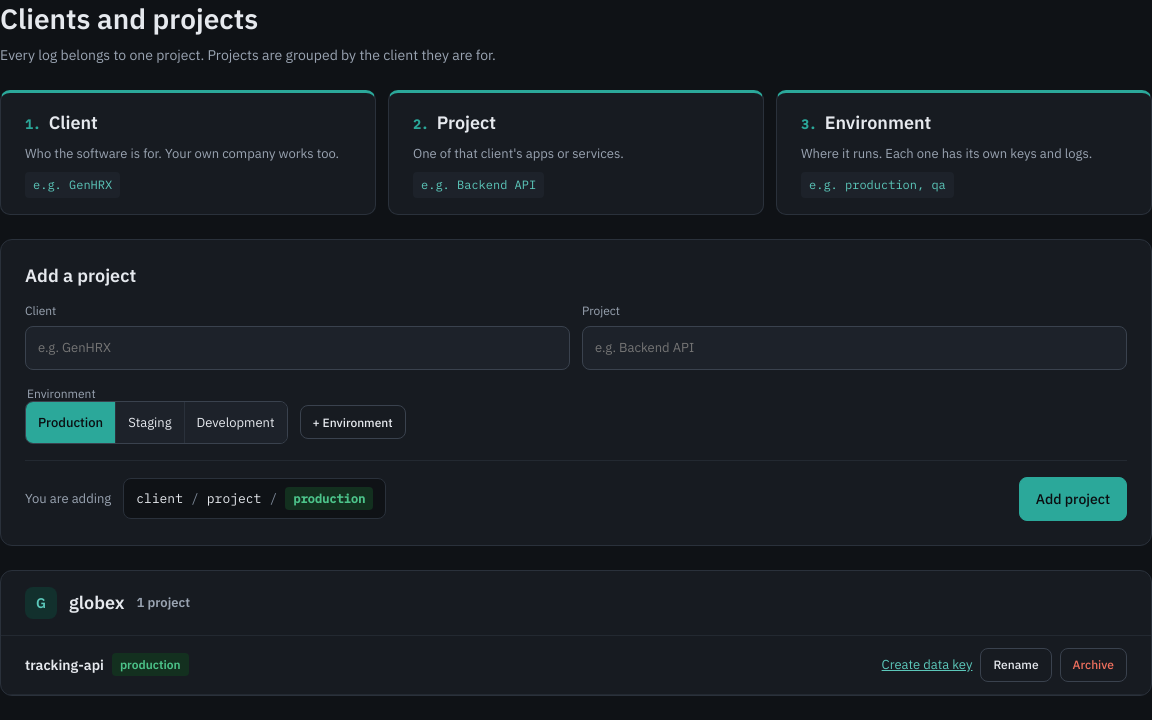
Test: Clients and projects › adds a project with its names turned into slugs, then lists it under its client
Type "Globex" into the field labelled "Client". click: (298, 348)
box: 25,326 -> 570,370
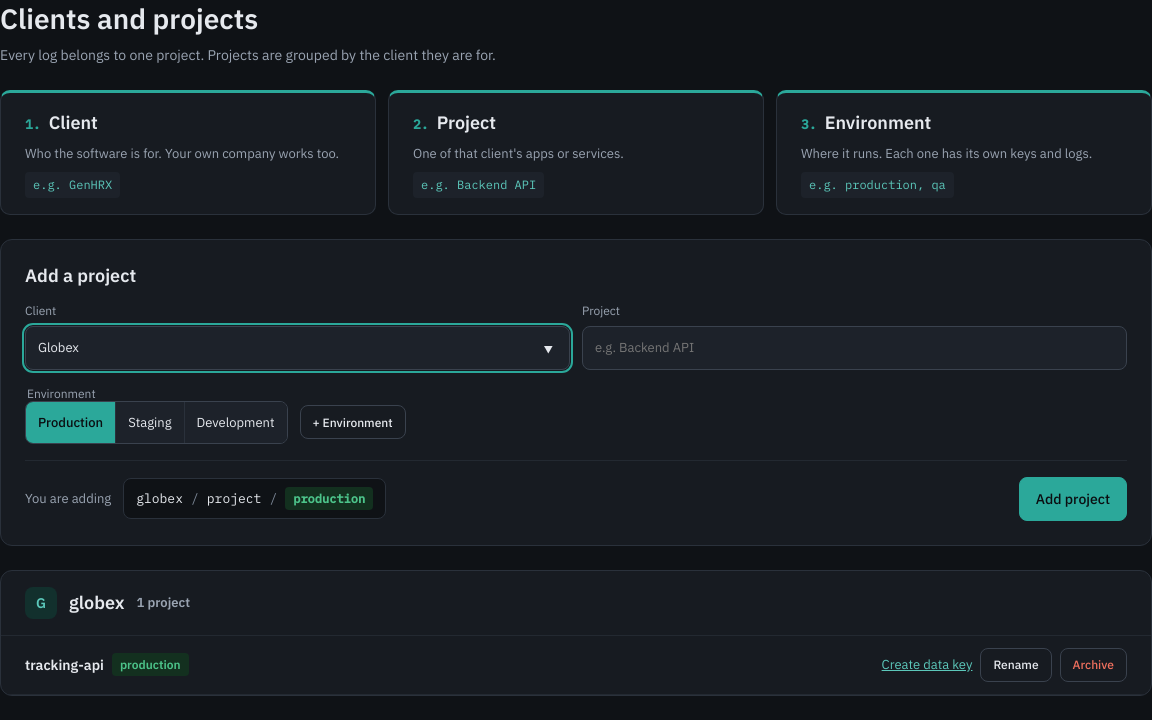
Type "Tracking API" into the field labelled "Project". click: (854, 348)
box: 582,326 -> 1127,370
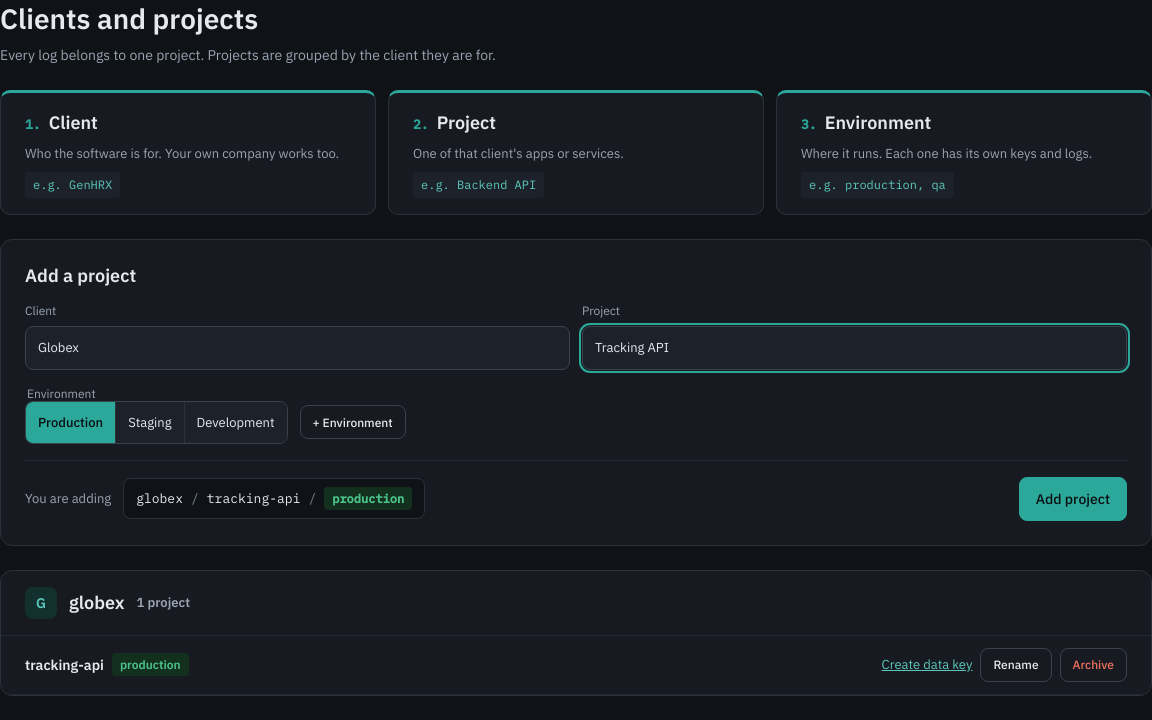
Click the radio button labelled "Staging". click: (150, 422)
box: 116,402 -> 184,442
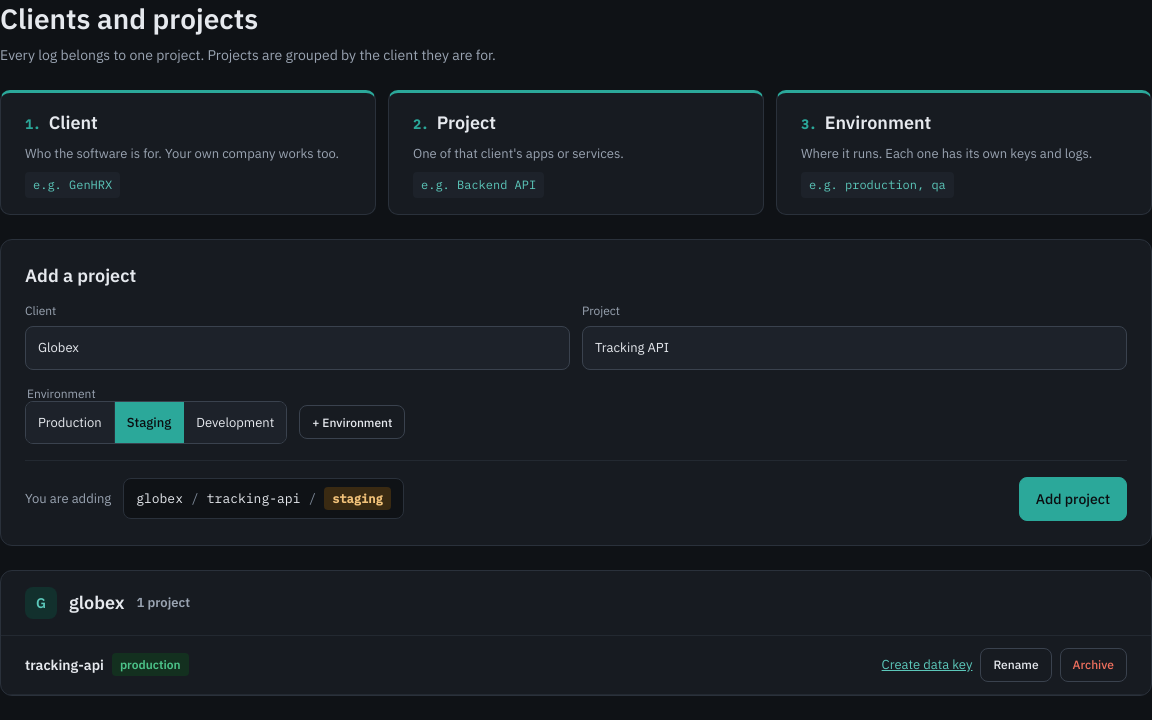
Click the button "Add project". click: (1073, 498)
box: 1019,476 -> 1127,520
(page scrolled)
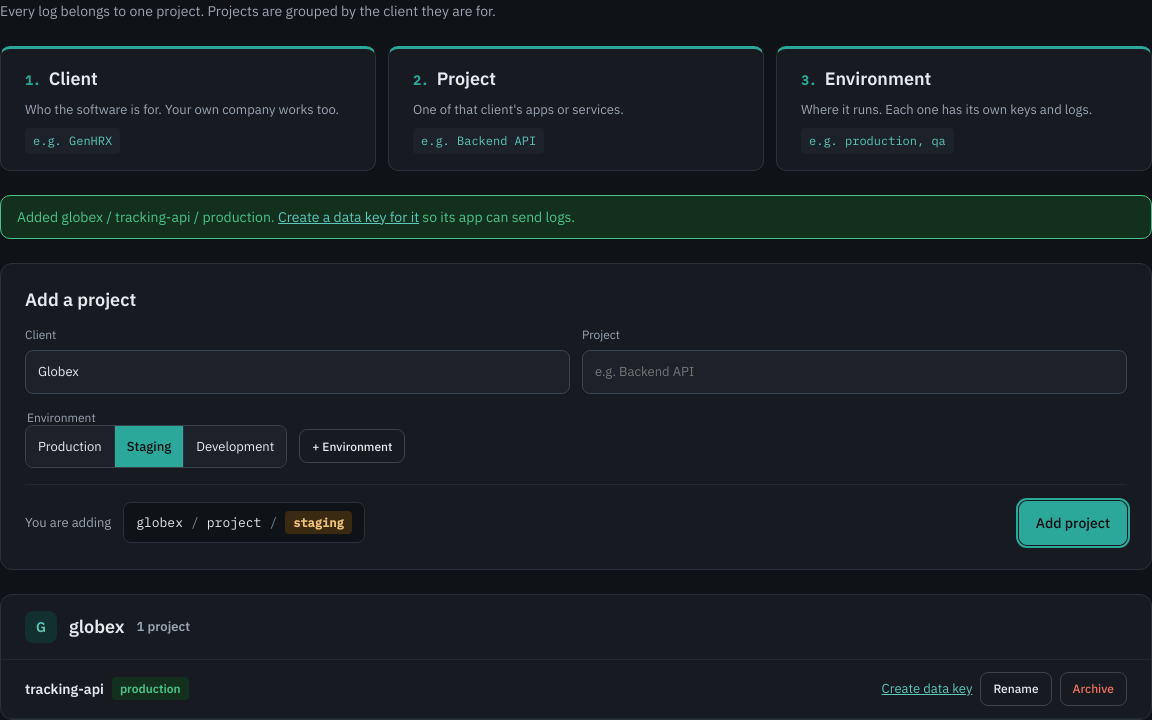
Check: the element named "Client globex" is shown, box 0,594 -> 1151,719
Check: the message is shown, box 0,194 -> 1151,238
